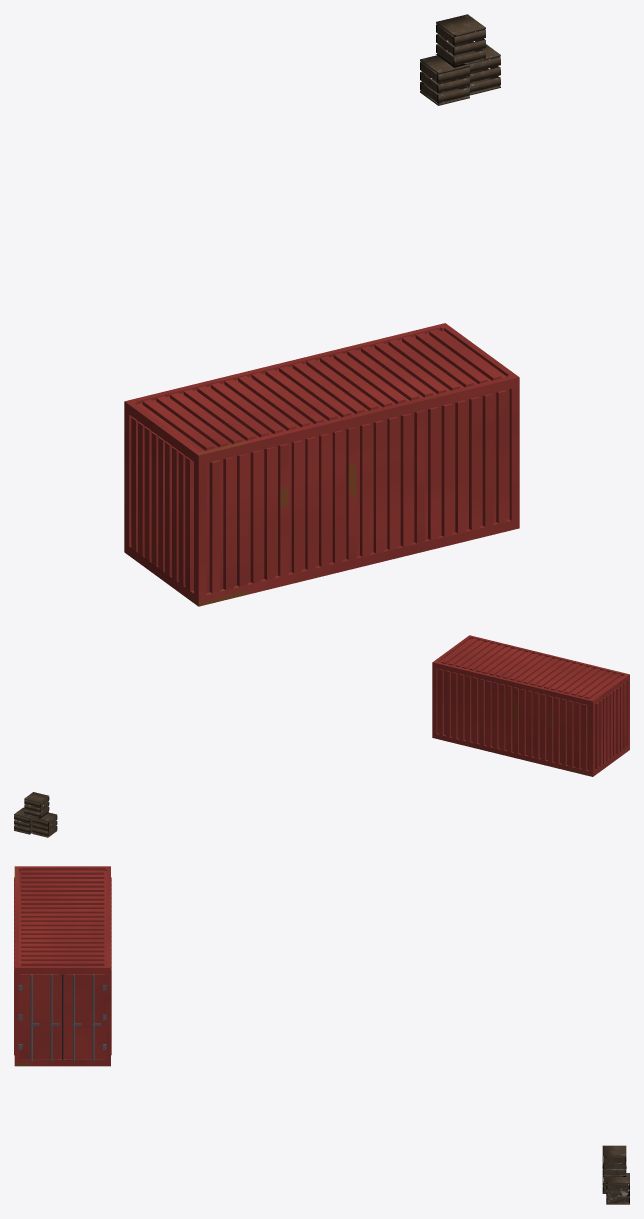
File: _PruebaEstilo.fbx
3 renders of one model, top to bottom at view 1: azimuth 30°, elevation 25°; view 2: azimuth 150°, elevation 25°; view 3: azimuth 270°, elevation 25°, orthographic. The views are drawn at different scales.
Parts seen in each view (by area): view 1: Contenedor_Rojo, Prop_Cajones; view 2: Contenedor_Rojo, Prop_Cajones; view 3: Contenedor_Rojo, Prop_Cajones.
Part boxes in pixels (<box>): Contenedor_Rojo: <box>124,323,519,606</box>; Prop_Cajones: <box>420,14,500,105</box>; Contenedor_Rojo: <box>432,635,629,776</box>; Prop_Cajones: <box>14,792,57,837</box>; Contenedor_Rojo: <box>14,866,111,1066</box>; Prop_Cajones: <box>602,1145,629,1204</box>.
Size of the model in its own units: 47.29 by 9.04 by 51.22.
3 materials, 3 textured.
